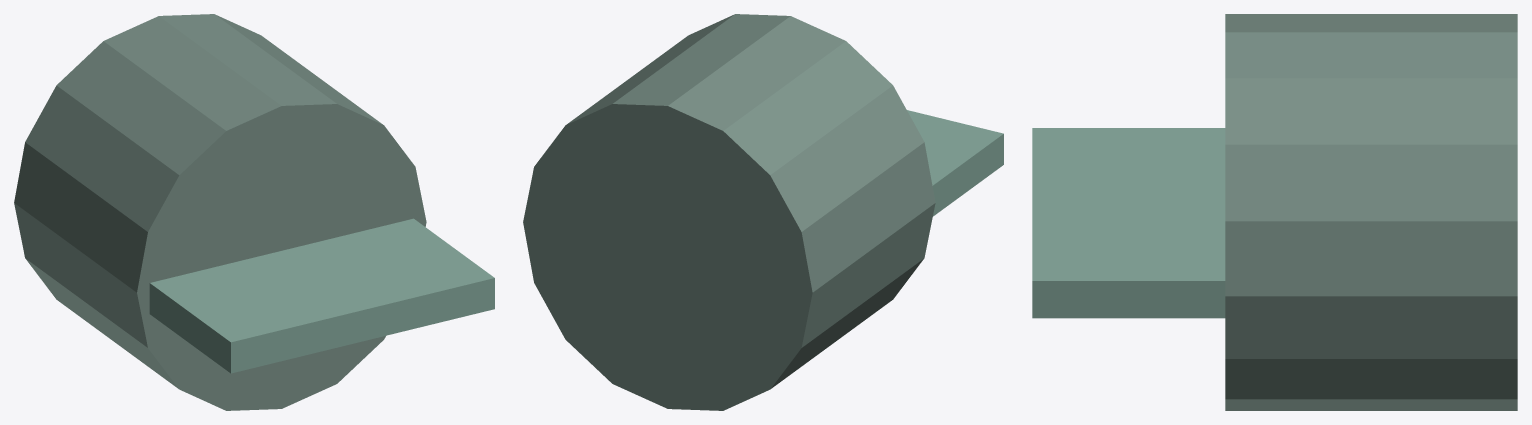
File: info-pedestal-eco.glb
3 views of the same model, side by side, from view 1: azimuth 30°, elevation 25°; view 2: azimuth 150°, elevation 25°; view 3: azimuth 270°, elevation 25° (orthographic). The views are drawn at different scales.
Visible parts, largest first — view 1: base, plate; view 2: base, plate; view 3: base, plate.
Boxes of the visible parts, <box> form: base: <box>14,14,426,410</box>; plate: <box>149,218,494,373</box>; base: <box>523,14,935,410</box>; plate: <box>907,110,1003,216</box>; base: <box>1225,14,1517,410</box>; plate: <box>1032,128,1225,318</box>.
Size of the model in its own units: 0.68 by 0.68 by 0.83.
